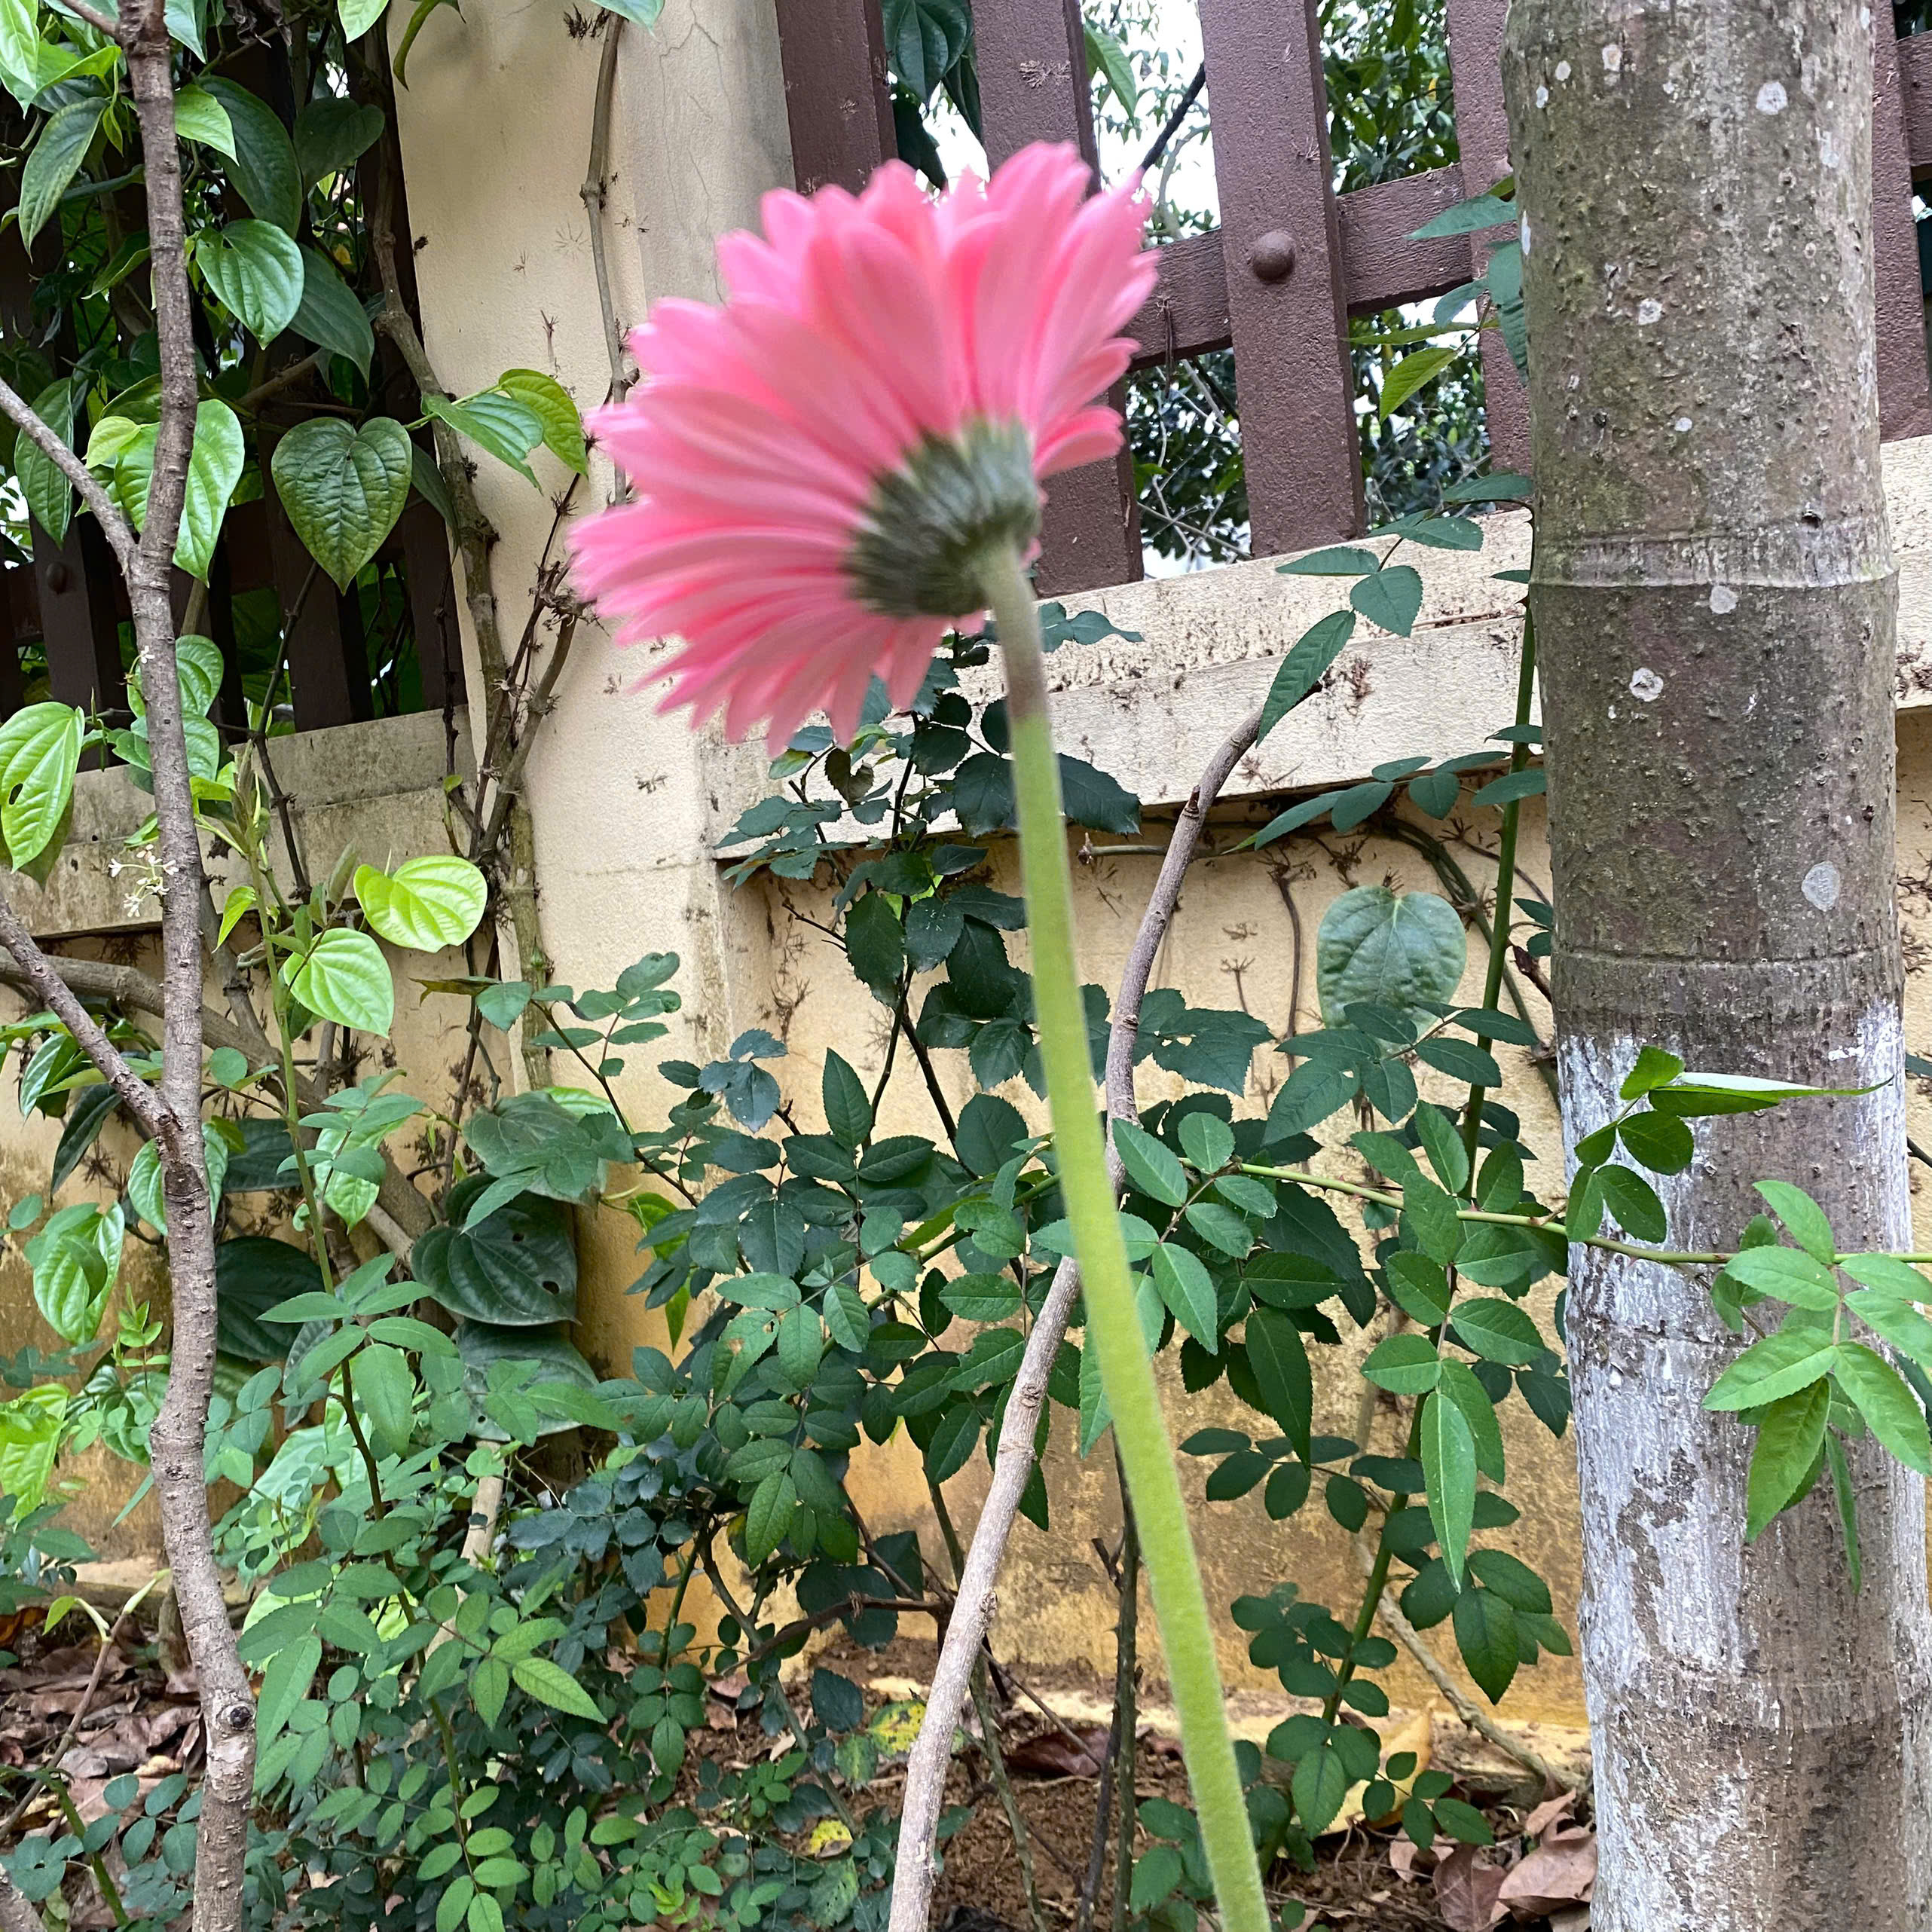hoa_hong_phan: (529, 127, 1430, 1920)
